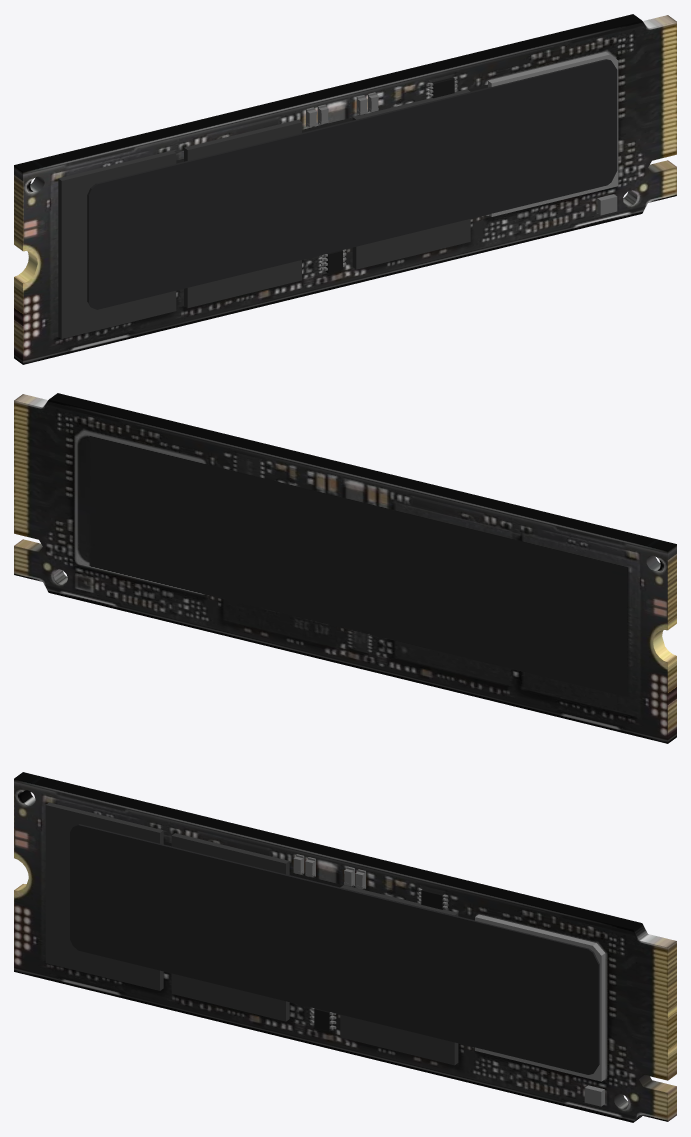
File: ssd.glb
The picture shows the model from 3 angles, top to bottom: view 1: azimuth 30°, elevation 25°; view 2: azimuth 150°, elevation 25°; view 3: azimuth 330°, elevation 25°; orthographic projection.
Parts seen in each view (by area): view 1: pCube851_M2_StickerM_0, pCube842_M2_BaseM_0, pCube843_M2_Chip1m_0, pCube846_M2_Chip2m_0, pCube847_lambert1_0, pCube853_ChipM_0; view 2: pCube842_M2_BaseM_0; view 3: pCube851_M2_StickerM_0, pCube842_M2_BaseM_0, pCube843_M2_Chip1m_0, pCube846_M2_Chip2m_0, pCube847_lambert1_0, pCube853_ChipM_0.
Part boxes in pixels (x1,y1,x2,y2): pCube851_M2_StickerM_0: [87, 59, 617, 309]; pCube842_M2_BaseM_0: [14, 14, 676, 364]; pCube843_M2_Chip1m_0: [58, 89, 470, 338]; pCube846_M2_Chip2m_0: [488, 52, 618, 216]; pCube847_lambert1_0: [306, 77, 617, 270]; pCube853_ChipM_0: [325, 77, 454, 272]; pCube842_M2_BaseM_0: [14, 393, 676, 743]; pCube851_M2_StickerM_0: [70, 824, 599, 1074]; pCube842_M2_BaseM_0: [14, 772, 676, 1122]; pCube843_M2_Chip1m_0: [45, 802, 458, 1065]; pCube846_M2_Chip2m_0: [475, 914, 605, 1081]; pCube847_lambert1_0: [293, 854, 604, 1106]; pCube853_ChipM_0: [314, 889, 443, 1031].
Bounding box in the file's own units: 7.72 × 2.18 × 0.2847.
Materials: 6 (1 with a texture image).
